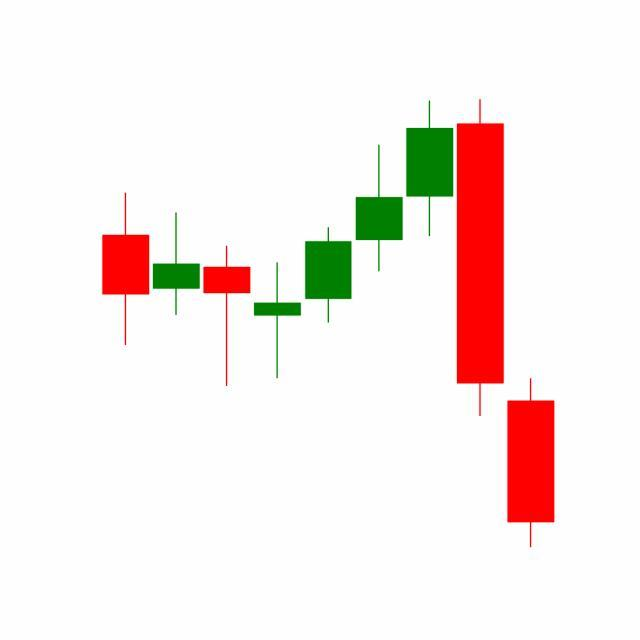Hikkake Pattern: (252, 99, 506, 421)
